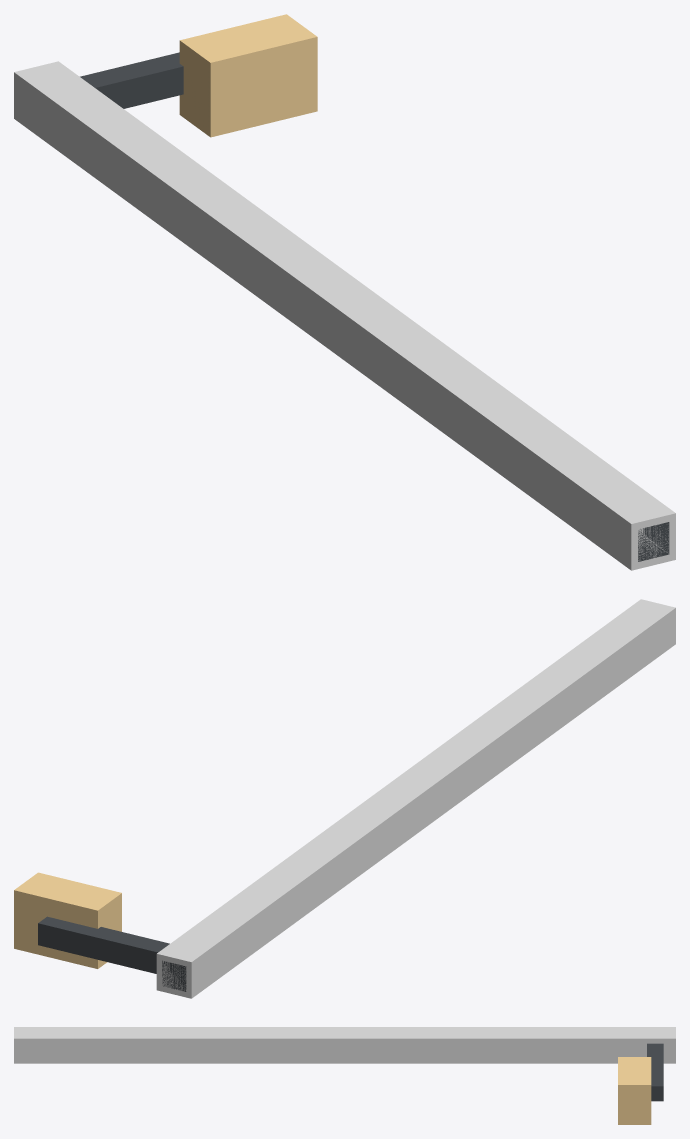
The model's file is bh_prop_streetlamp_prom_a_01.glb.
3 renders of one model, top to bottom at view 1: azimuth 30°, elevation 25°; view 2: azimuth 150°, elevation 25°; view 3: azimuth 270°, elevation 25°, orthographic. The views are drawn at different scales.
Visible parts, largest first — view 1: bh_col_prop_streetlamp_prom_a_01, bh_prop_streetlamp_prom_a_lamp, bh_prop_streetlamp_prom_a_arm, bh_prop_streetlamp_prom_a_pole; view 2: bh_col_prop_streetlamp_prom_a_01, bh_prop_streetlamp_prom_a_lamp, bh_prop_streetlamp_prom_a_arm, bh_prop_streetlamp_prom_a_pole; view 3: bh_col_prop_streetlamp_prom_a_01, bh_prop_streetlamp_prom_a_lamp, bh_prop_streetlamp_prom_a_arm.
Boxes of the visible parts, x1,y1,x2,y2 form: bh_col_prop_streetlamp_prom_a_01: (14,61,675,570); bh_prop_streetlamp_prom_a_lamp: (179,14,317,137); bh_prop_streetlamp_prom_a_arm: (80,52,183,108); bh_prop_streetlamp_prom_a_pole: (638,522,669,561); bh_col_prop_streetlamp_prom_a_01: (156,599,675,998); bh_prop_streetlamp_prom_a_lamp: (14,872,121,968); bh_prop_streetlamp_prom_a_arm: (38,916,169,973); bh_prop_streetlamp_prom_a_pole: (162,960,186,991); bh_col_prop_streetlamp_prom_a_01: (14,1027,675,1063); bh_prop_streetlamp_prom_a_lamp: (618,1057,651,1124); bh_prop_streetlamp_prom_a_arm: (647,1043,663,1101).
Size of the model in its own units: 1.12 by 0.32 by 4.8.
